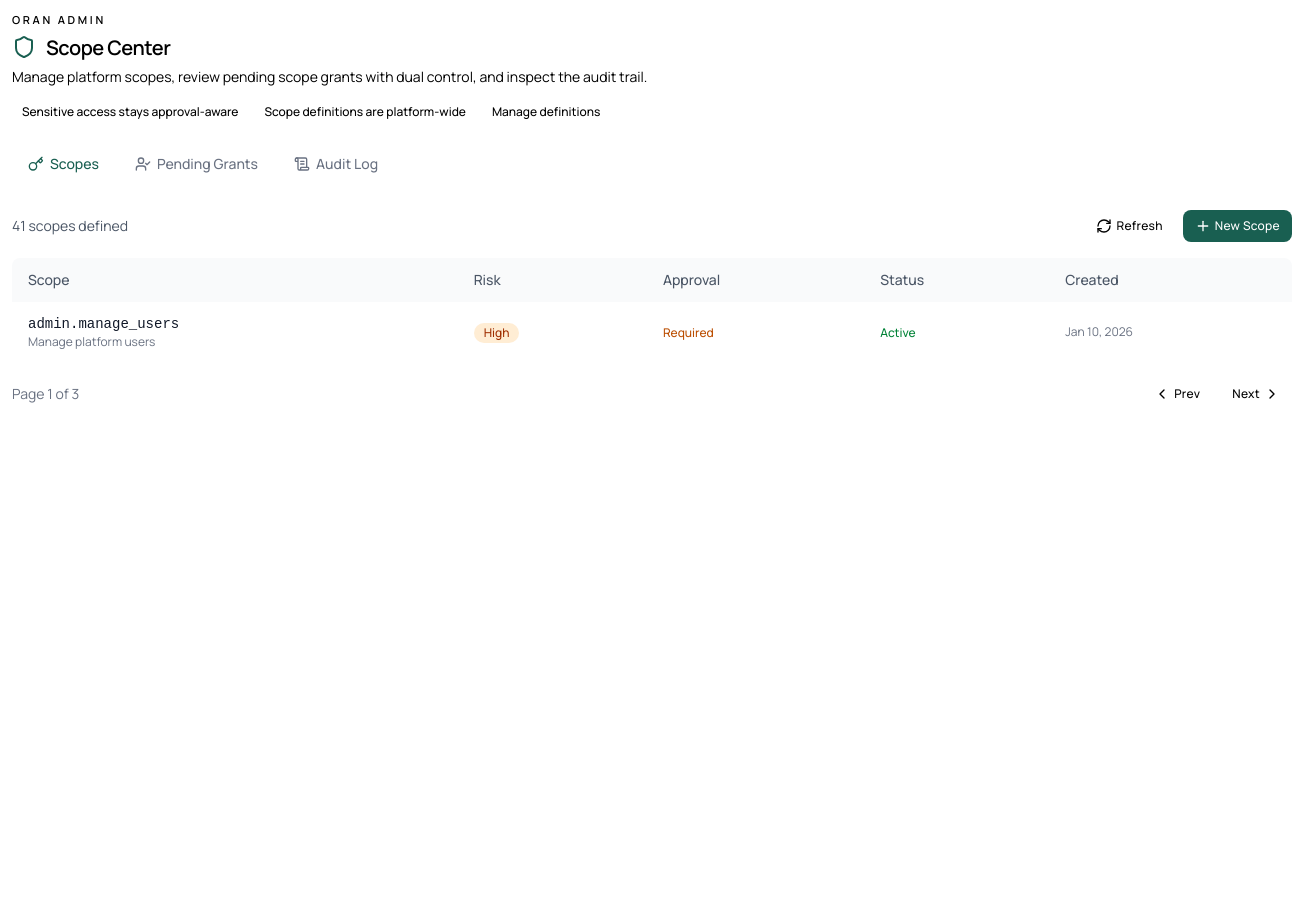
oran admin scope center page › loads scopes, creates a new scope, and paginates
Check: the text "admin.manage_users" is shown, box [28,316,179,332]
Click the button "New Scope" at (1237, 226), box [1183,210,1292,242]
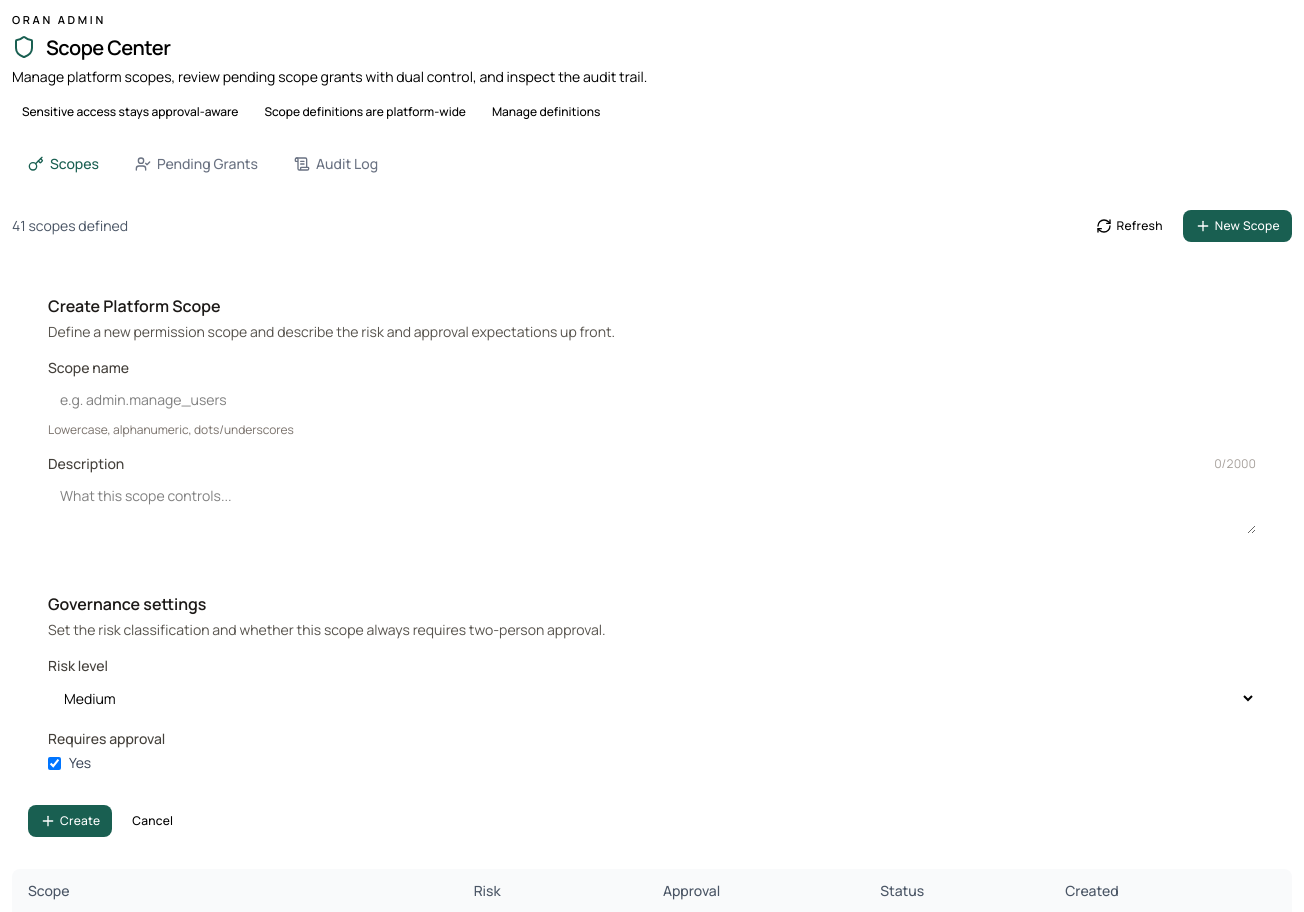
Type "admin.manage_billing" into the field labelled "Scope name" at (652, 400), box [48,382,1256,418]
Type "Handle billing controls" into the text box labelled "Description" at (652, 506), box [48,478,1256,534]
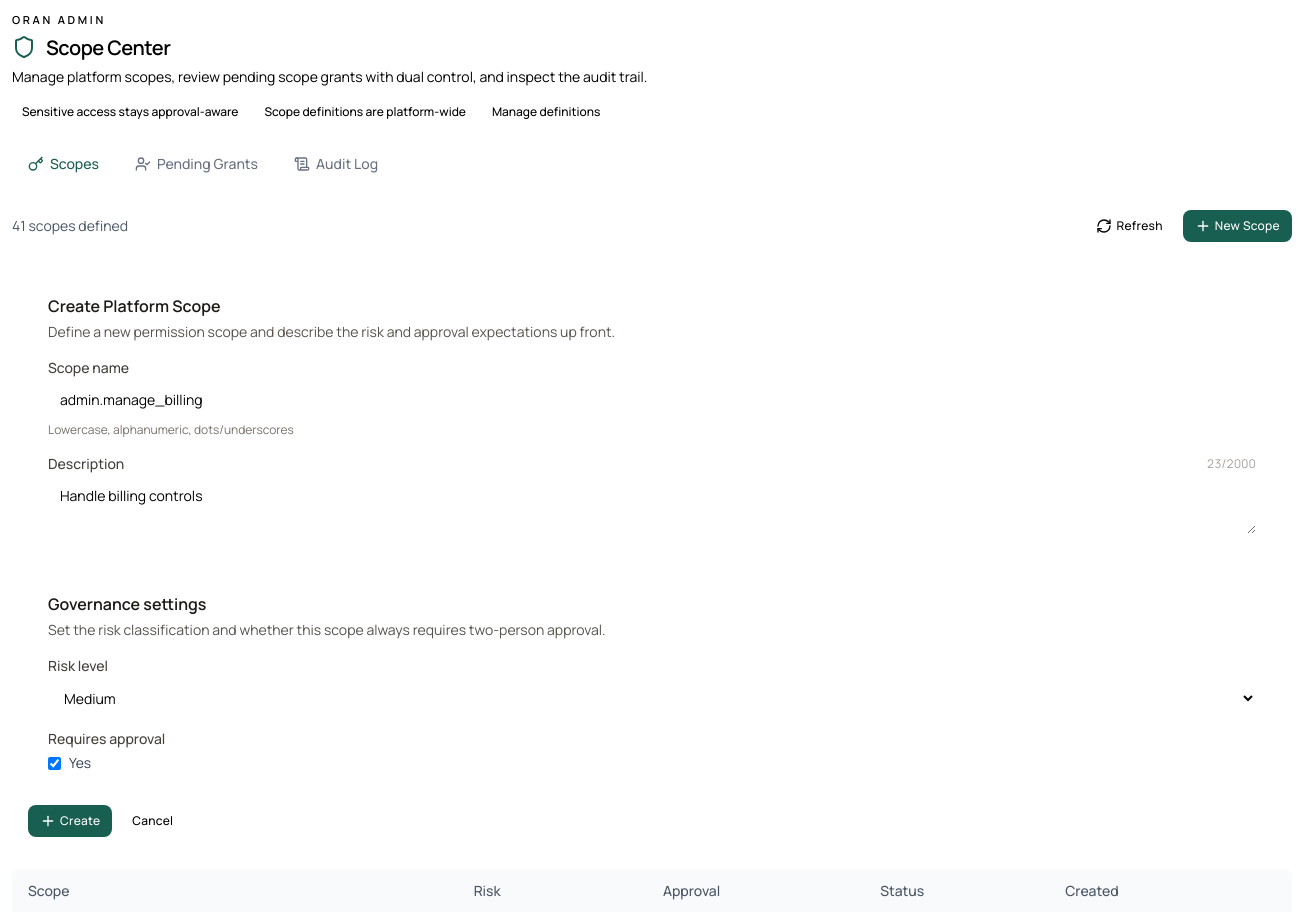
Select "Critical" in the dropdown labelled "Risk level" at (652, 699), box [48,680,1256,717]
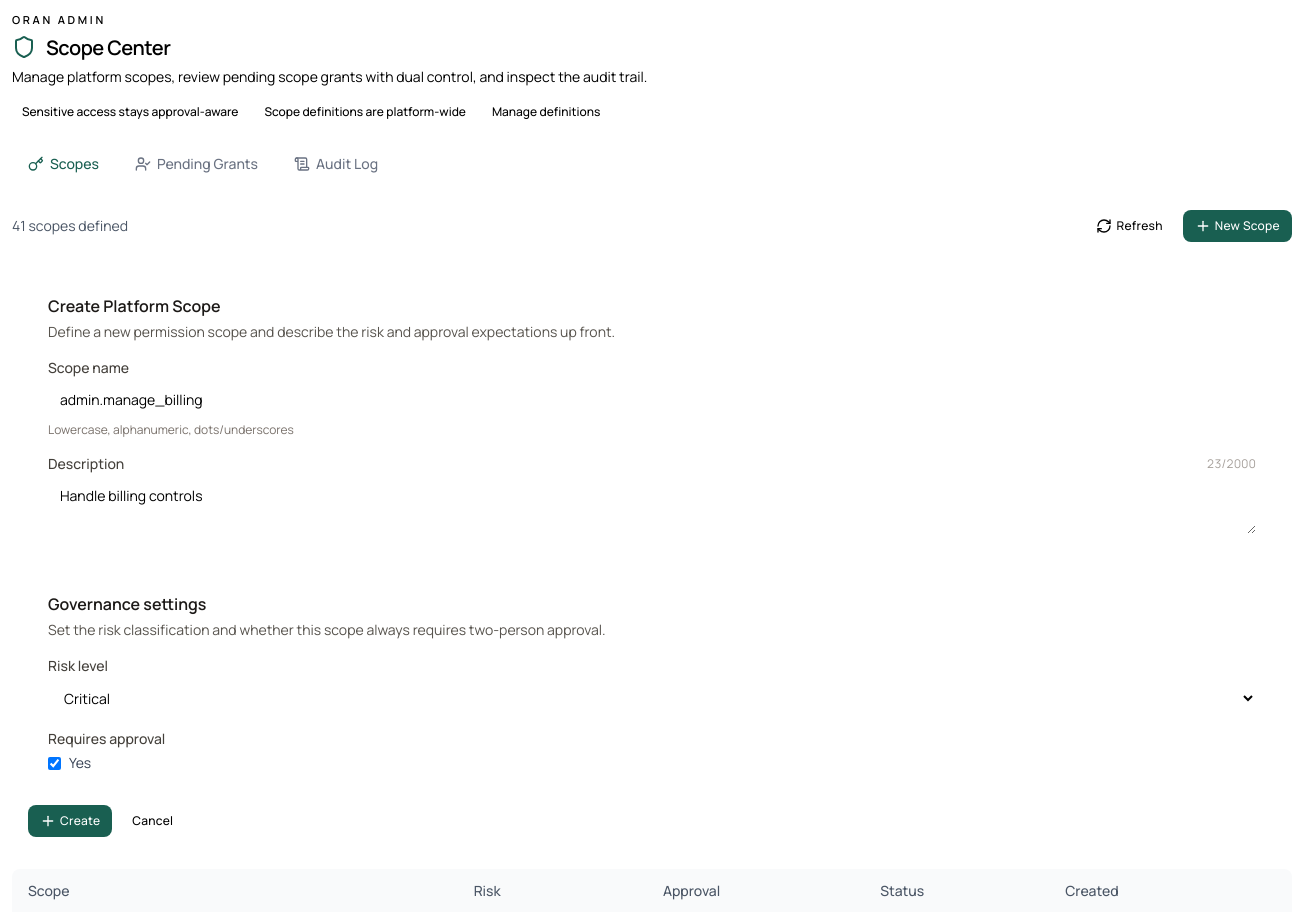
Click the button "Create" at (70, 821), box [28,805,112,837]
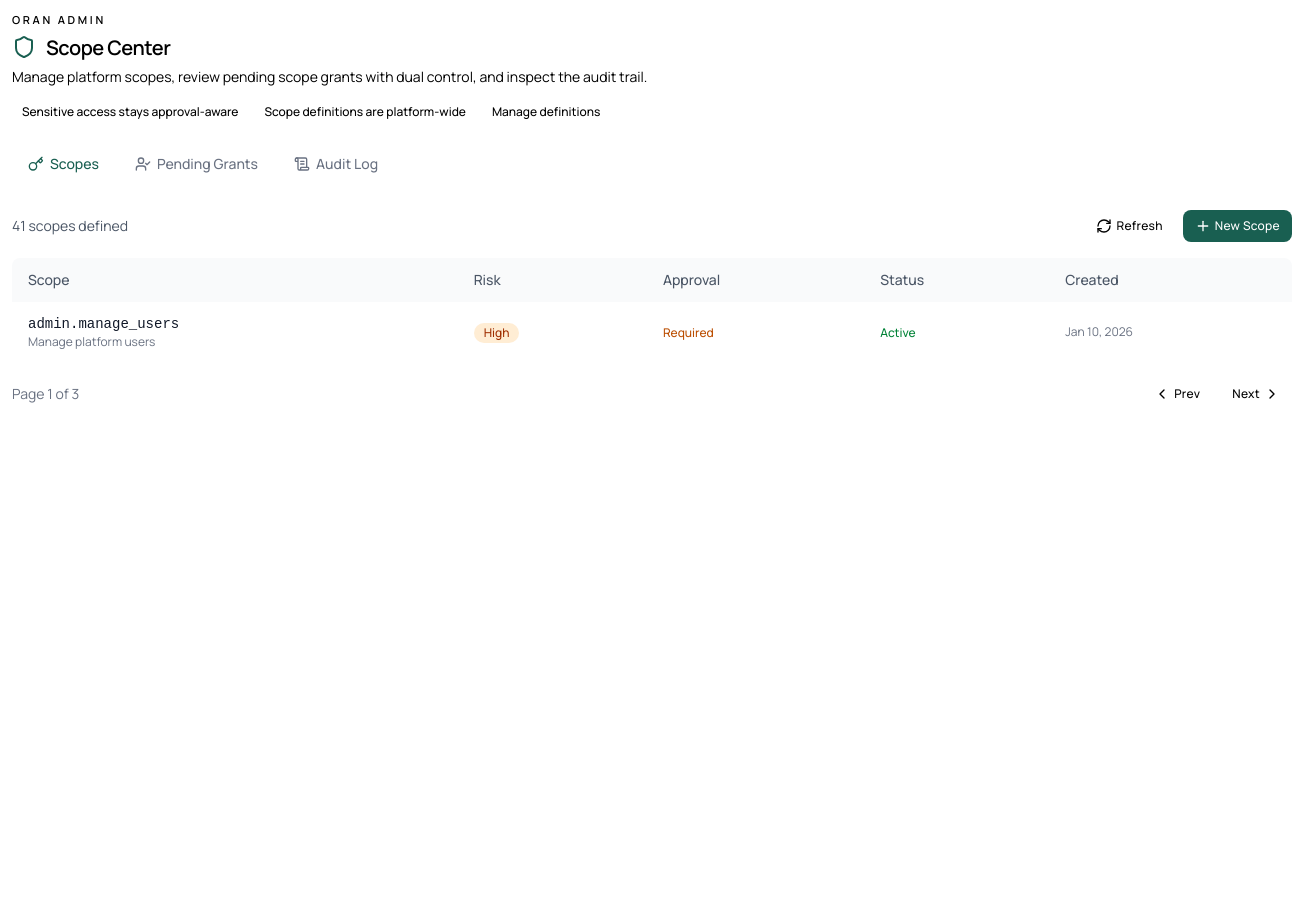
Click the button "Next" at (1256, 394), box [1220,378,1292,410]
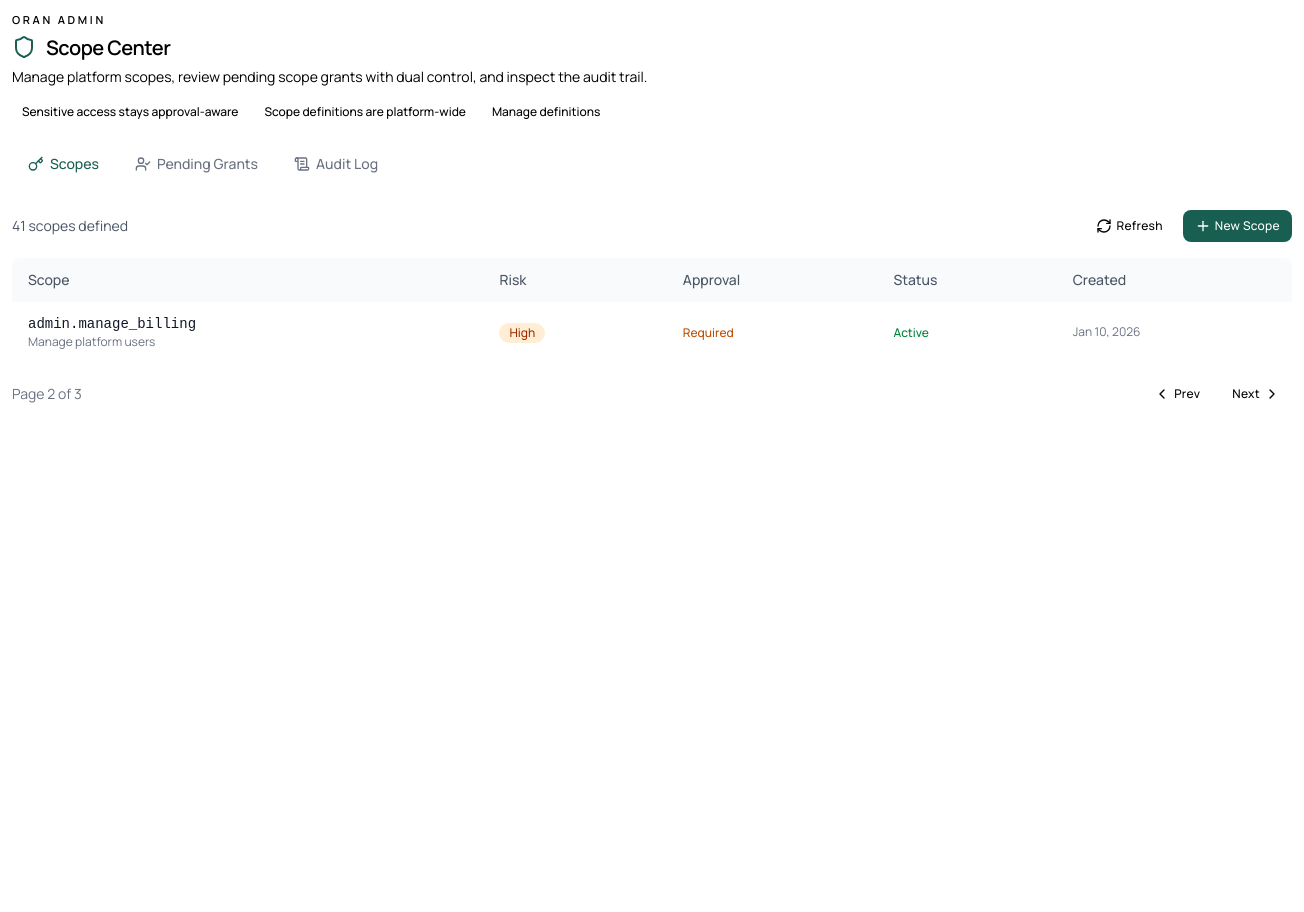
Check: the text "admin.manage_billing" is shown, box [28,316,196,332]
Click the button "Prev" at (1177, 394), box [1142,378,1212,410]
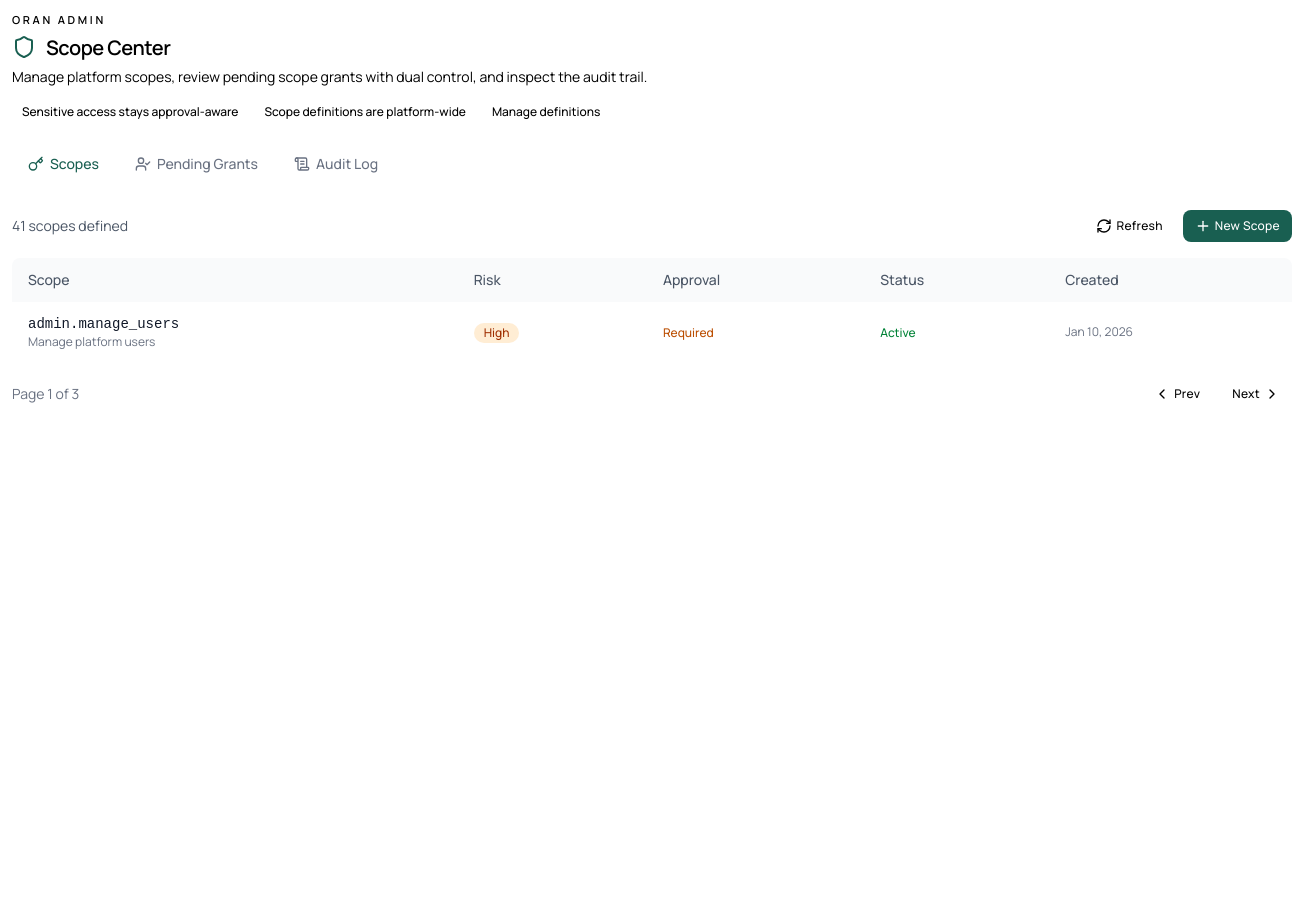
Check: the text "admin.manage_users" is shown, box [28,316,179,332]
